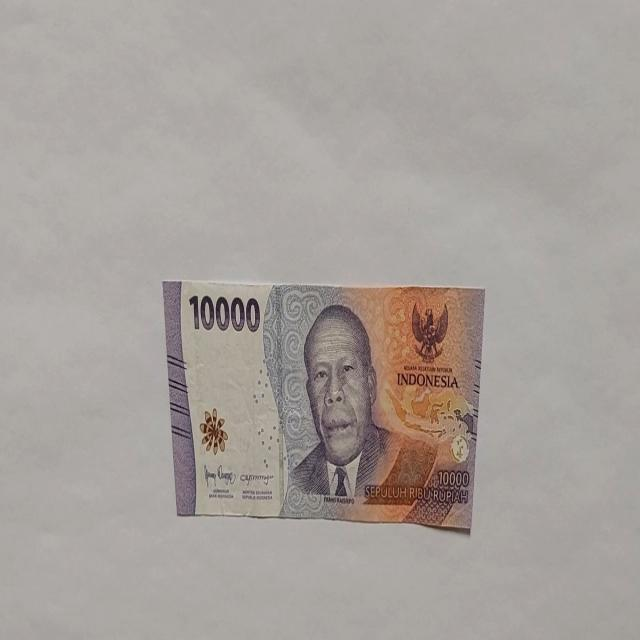sepuluh ribu rupiah: (162, 277, 486, 531), (279, 301, 439, 519)
